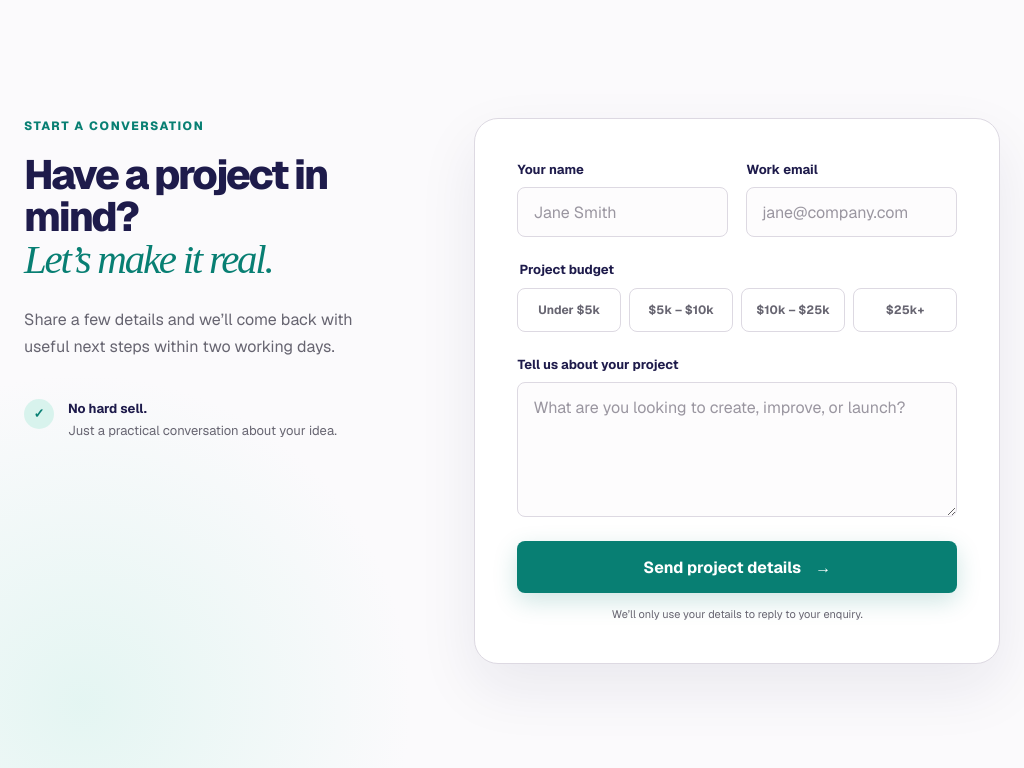
Scenario: contact form states › preserves values after failure and permits a retry
Step 1. Type "Ada Lovelace" into the field labelled "Your name" → (623, 212), box [517, 187, 728, 237]
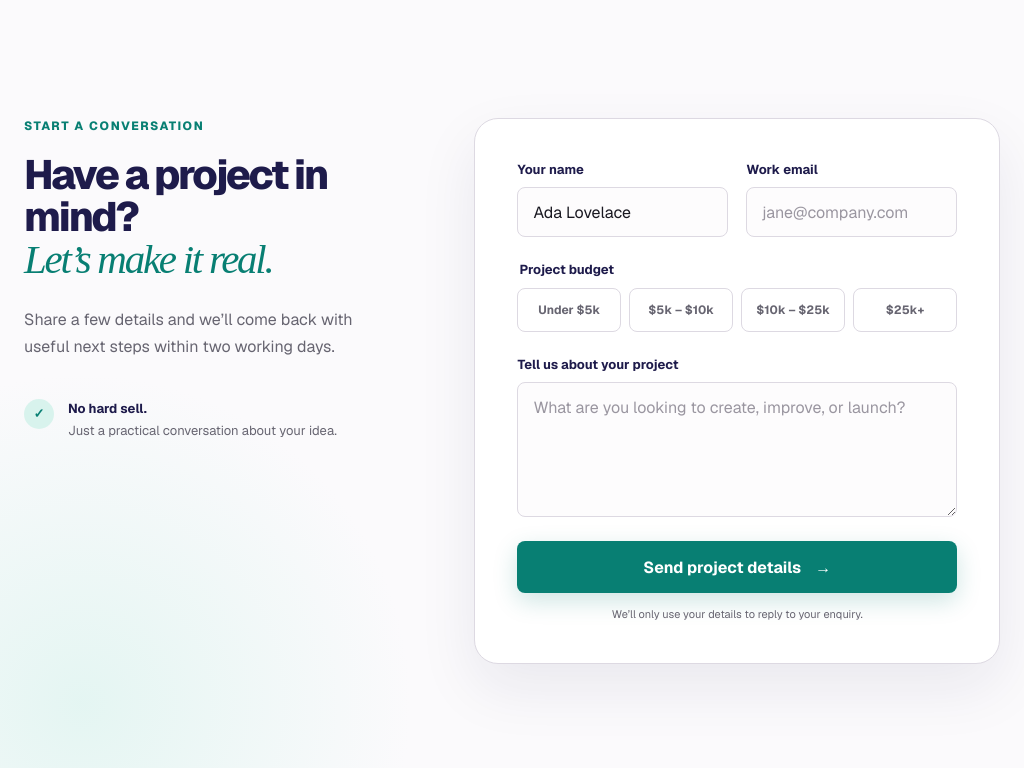
Step 2. Type "ada@example.com" into the field labelled "Work email" → (852, 212), box [746, 187, 957, 237]
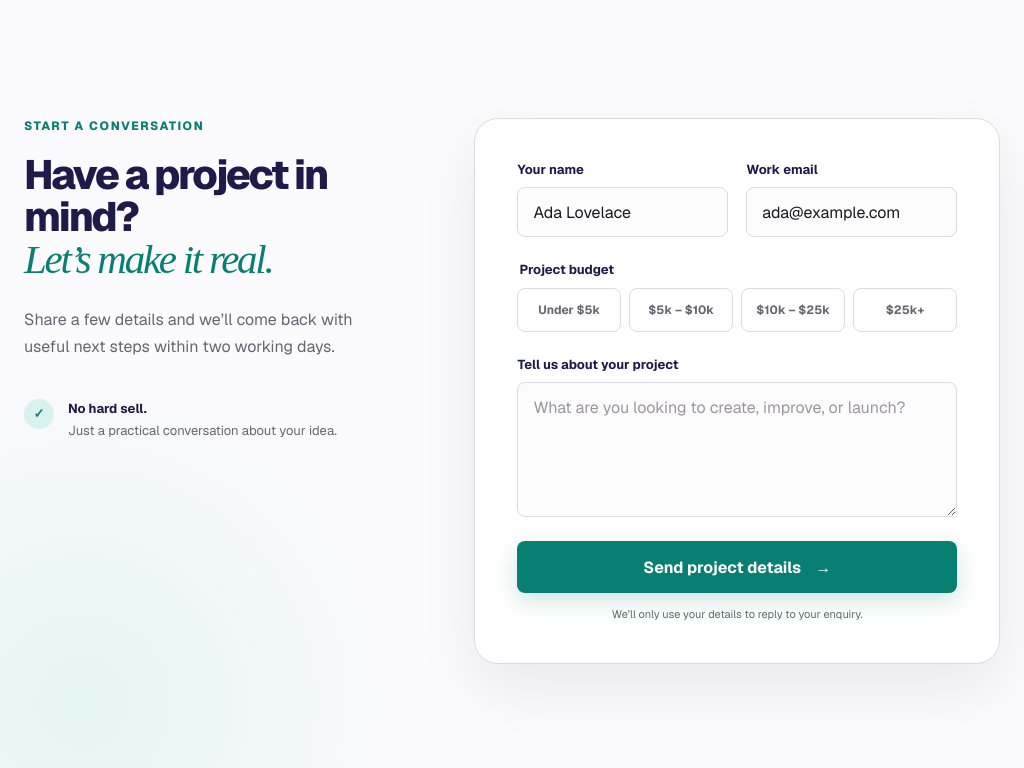
Step 3. Click the radio button labelled "$10k – $25k" → (793, 310), box [741, 288, 845, 332]
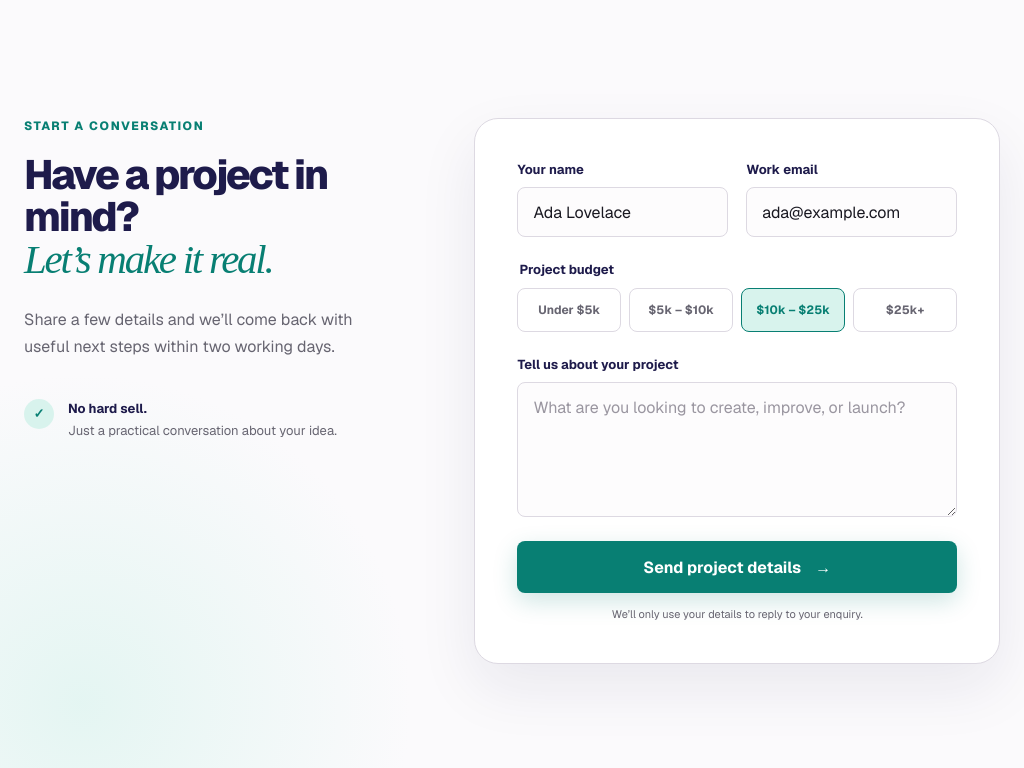
Step 4. Type "Build a new storefront" into the text box labelled "Tell us about your project" → (737, 450), box [517, 382, 957, 517]
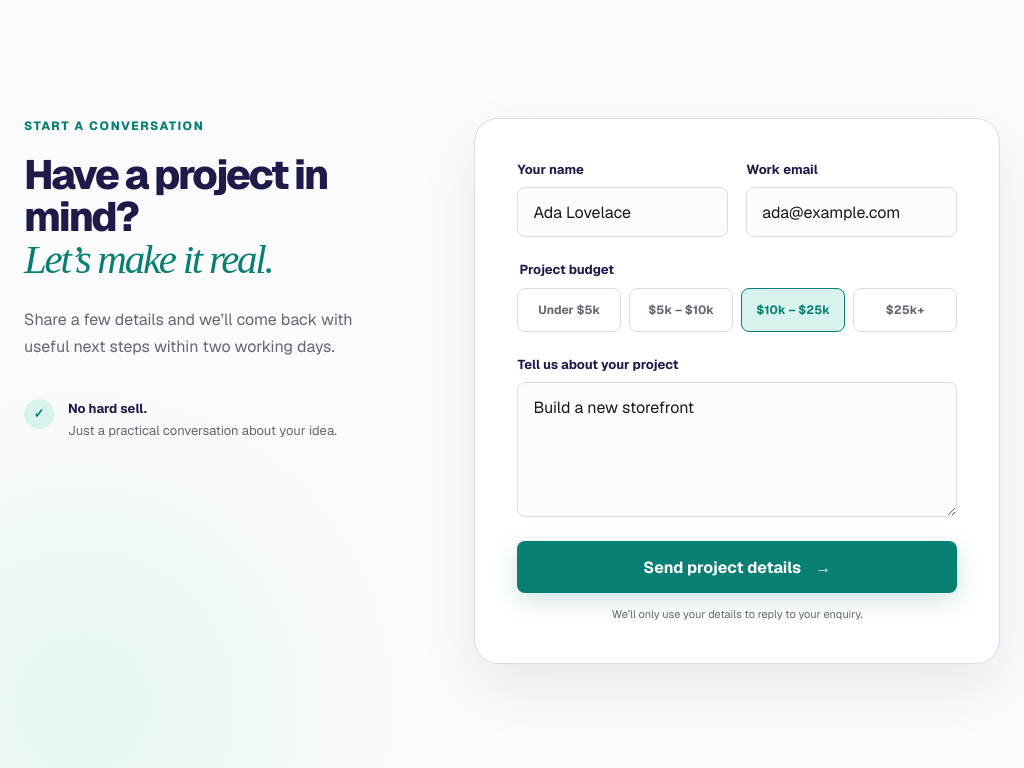
Step 5. Click the button "Send project details →" → (737, 567), box [517, 541, 957, 593]
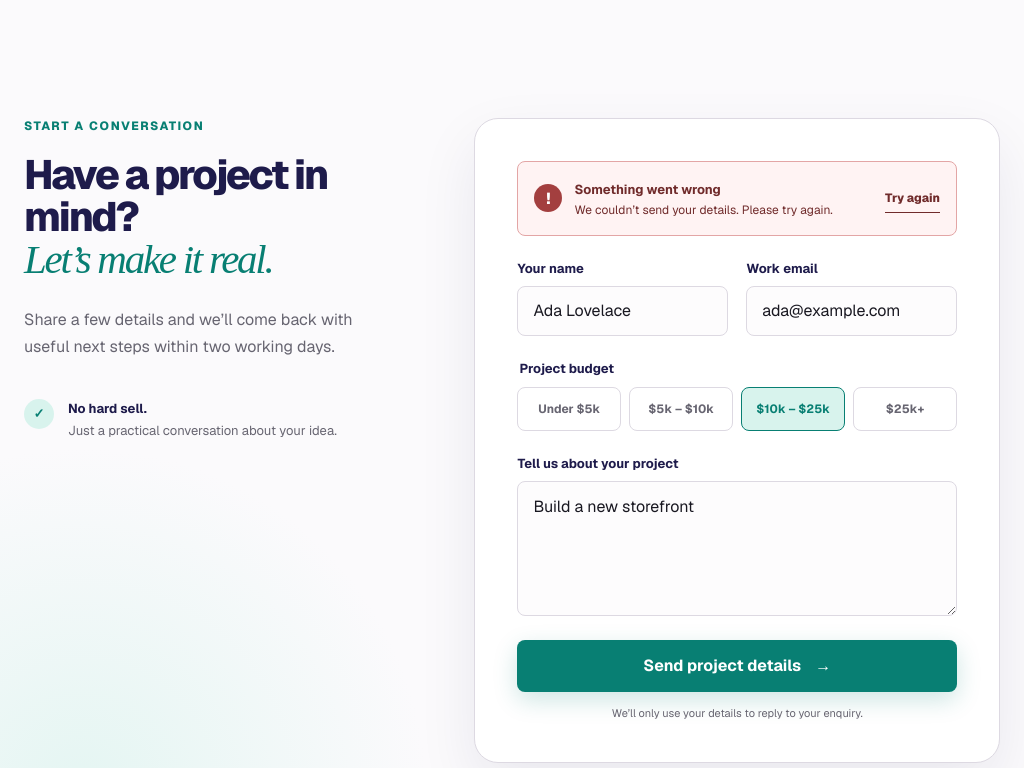
expect the text "Something went wrong" is shown: met, box [574, 181, 721, 198]
Step 6. Click the button "Try again" → (912, 198), box [885, 184, 940, 213]
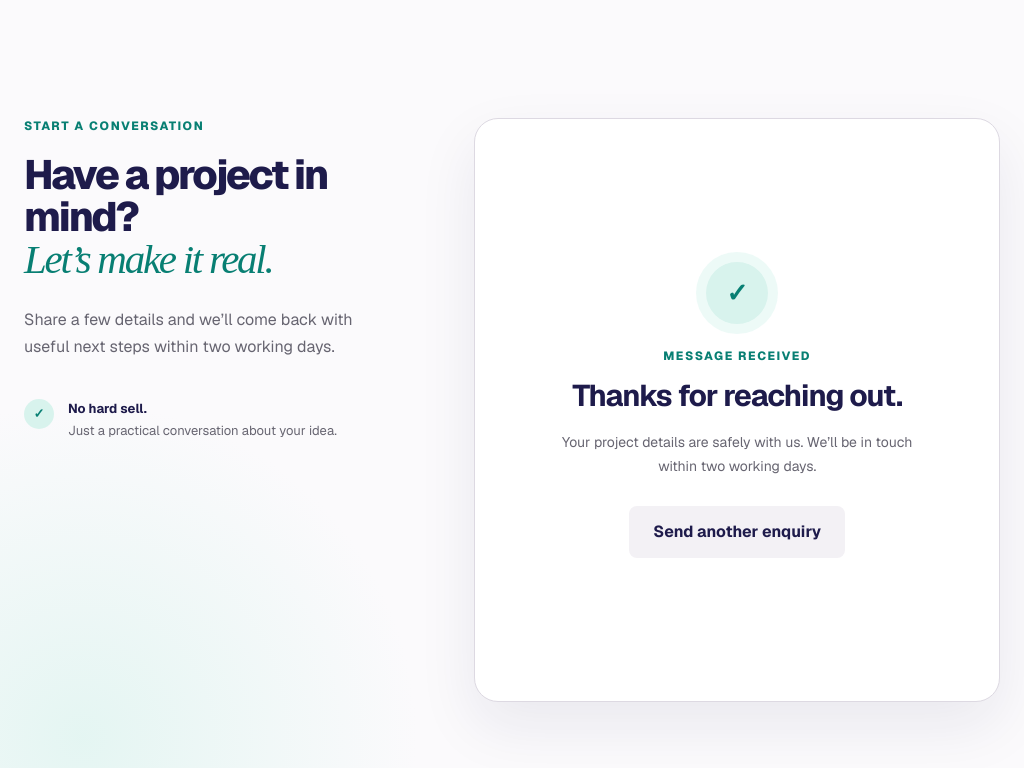
expect the heading "Thanks for reaching out." is shown: met, box [572, 376, 902, 415]
